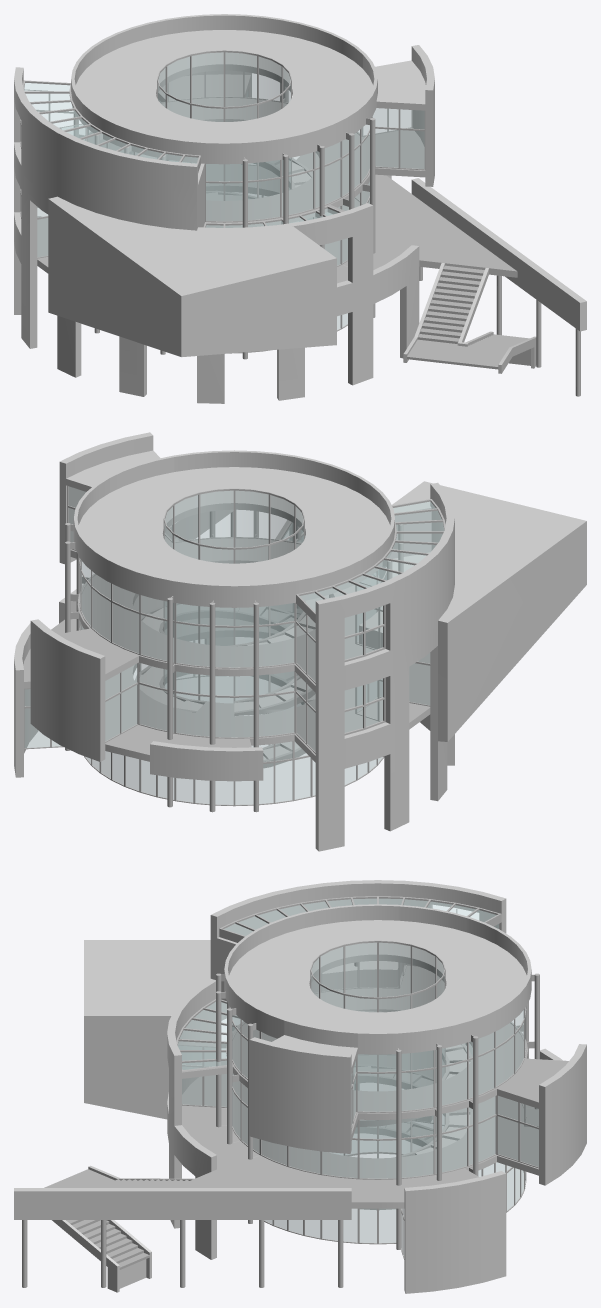
File: theatre.glb
The picture shows the model from 3 angles, top to bottom: view 1: azimuth 30°, elevation 25°; view 2: azimuth 150°, elevation 25°; view 3: azimuth 270°, elevation 25°; orthographic projection. The views are drawn at different scales.
Visible parts, largest first — view 1: THEATRE_MOD; view 2: THEATRE_MOD; view 3: THEATRE_MOD.
Boxes of the visible parts, x1,y1,x2,y2 form: THEATRE_MOD: [14, 14, 586, 403]; THEATRE_MOD: [14, 432, 586, 851]; THEATRE_MOD: [14, 880, 586, 1293].
Bounding box in the file's own units: 2456 × 1485 × 3262.
